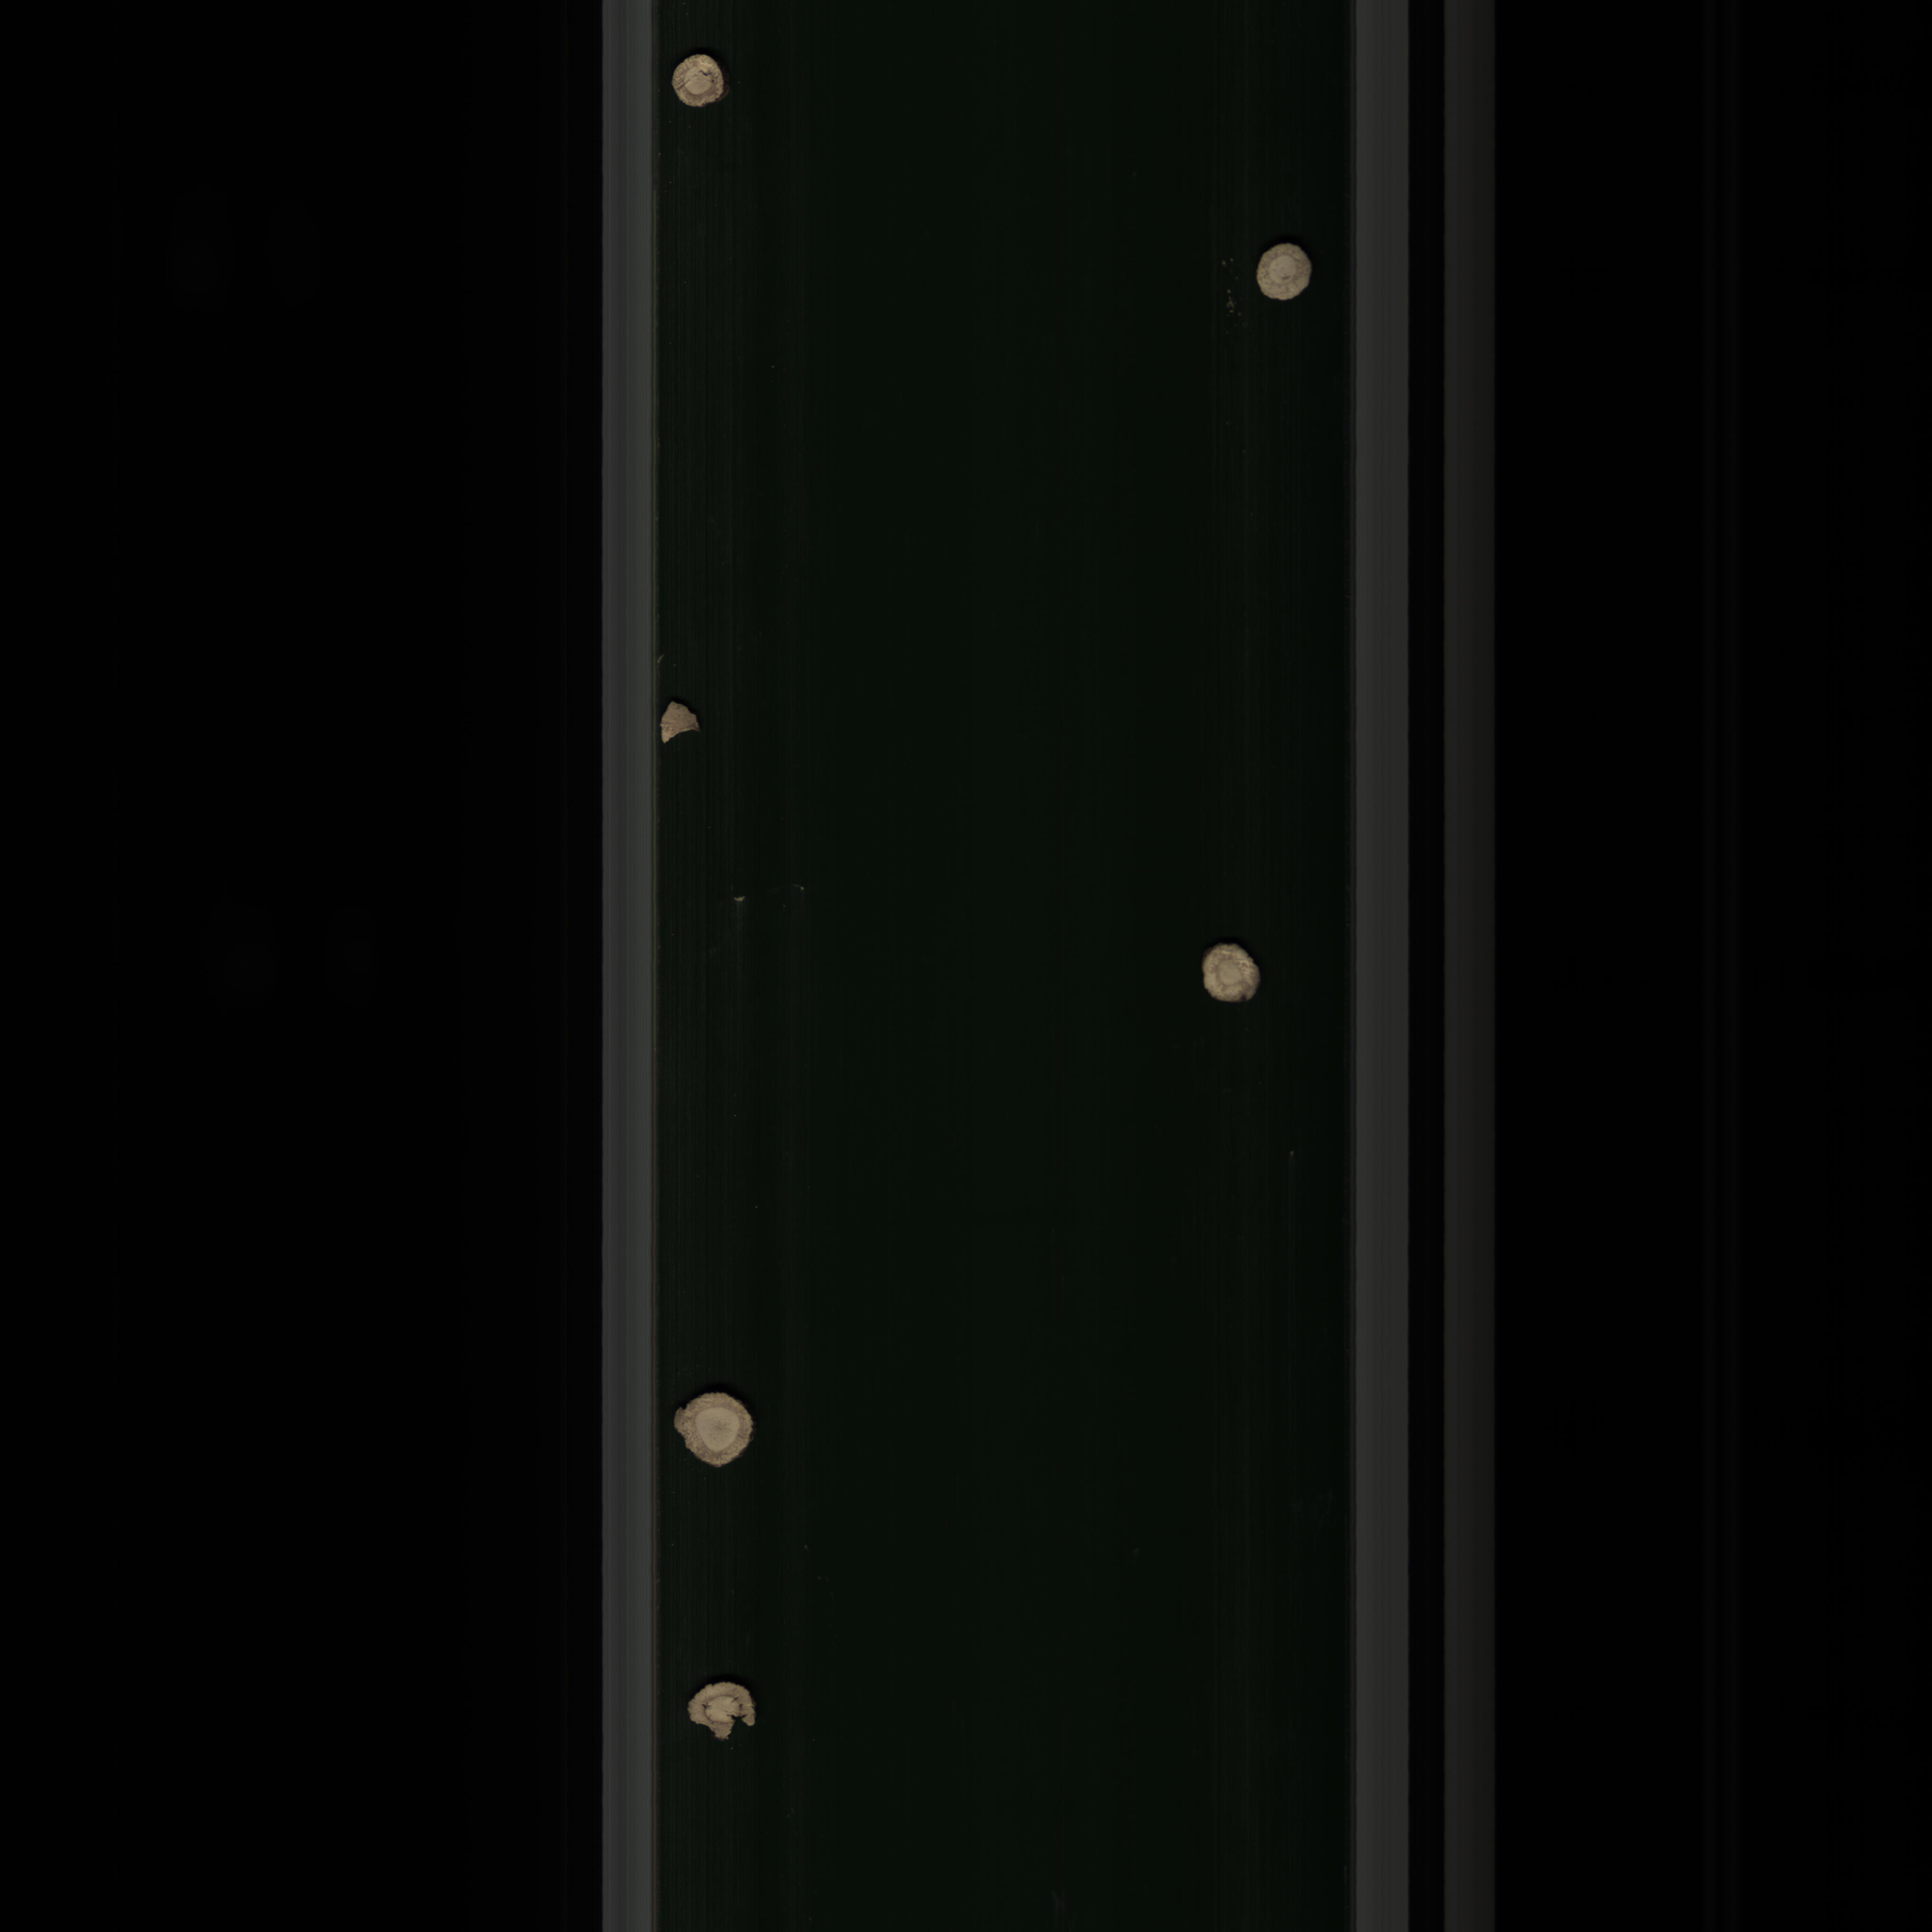debris: (671, 1667, 770, 1744), (655, 699, 704, 748)
hole: (669, 48, 738, 120)
